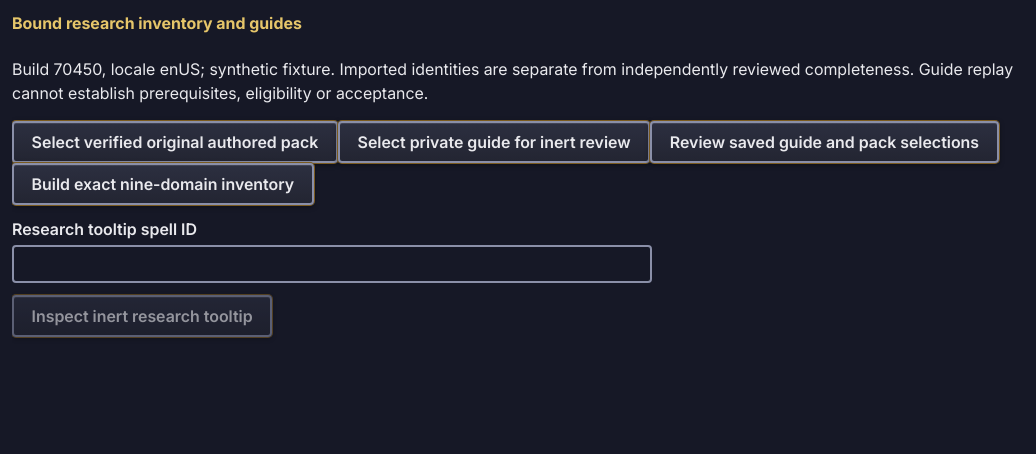
Test: renders tooltip text inertly and exposes unsupported expressions
Type "42" into the number field labelled "Research tooltip spell ID" at (332, 264), box [12,245,652,283]
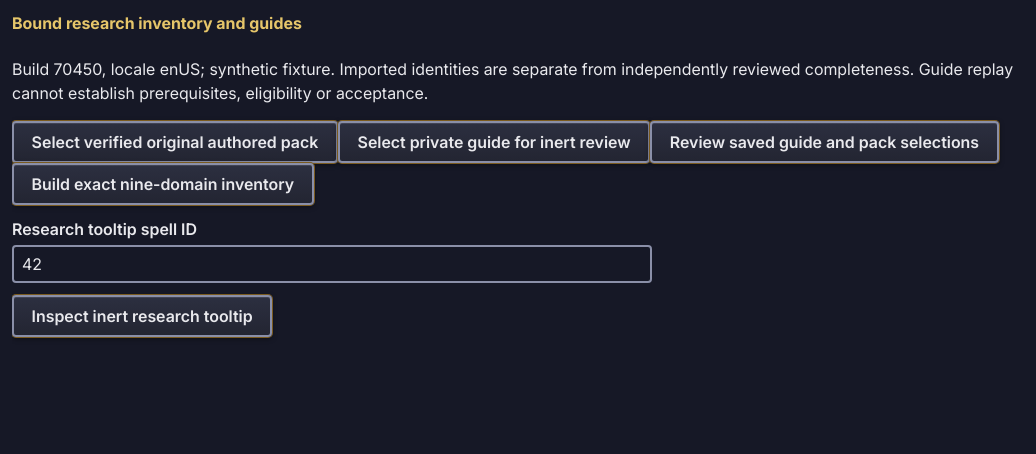
Click the button "Inspect inert research tooltip" at (142, 316), box [12,295,272,337]
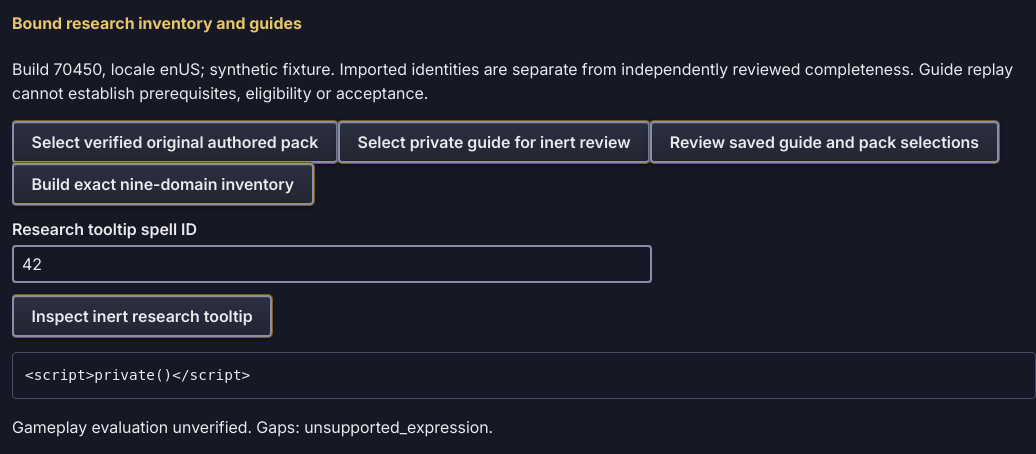
Now the text "<script>private()</script>" is shown, box [12,352,1035,399]
Now the text "unsupported_expression" is shown, box [304,417,489,437]
